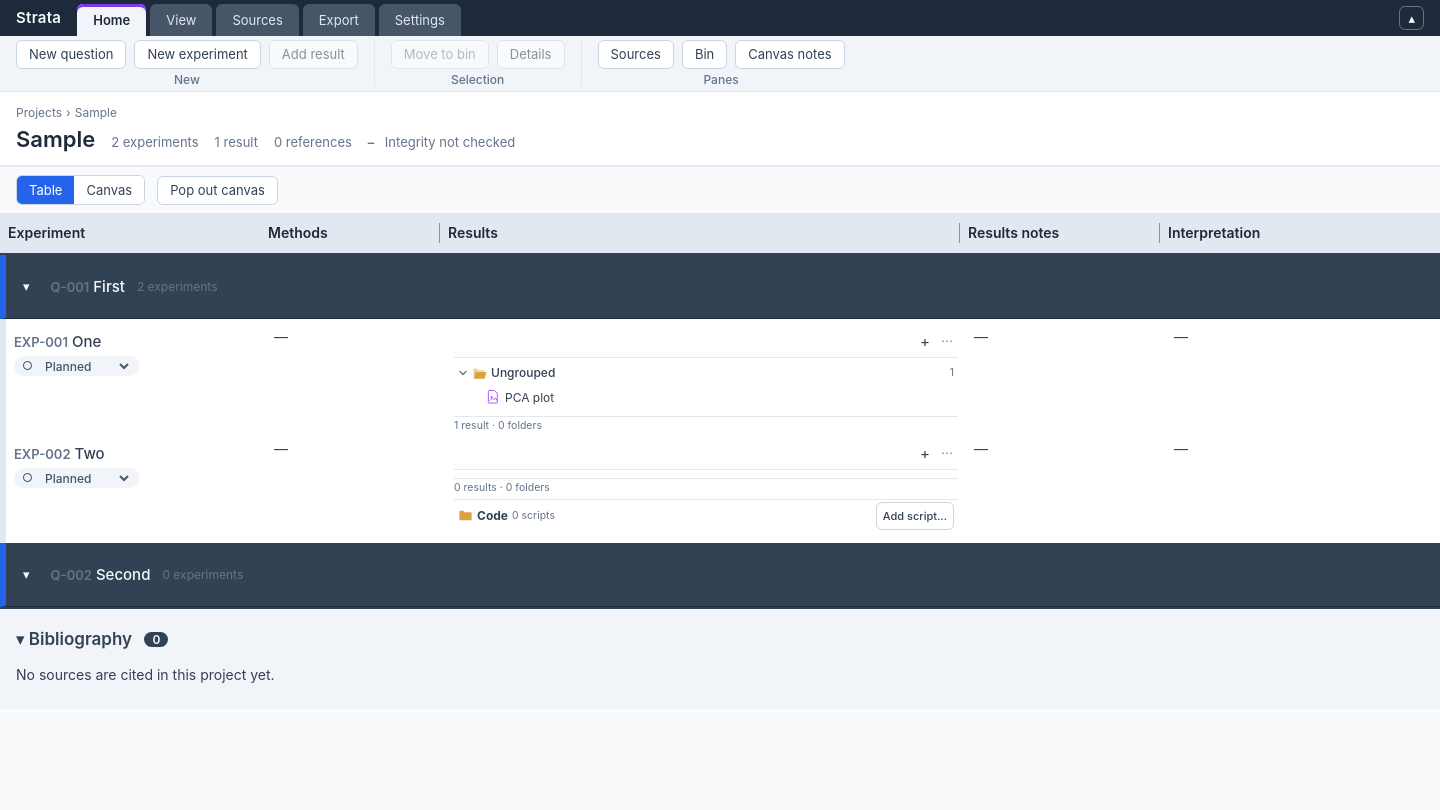
it: the Canvas notes pane in the table view › is opened from the ribbon's Home tab
What coordinates should you click on to do the following:
click the button "Canvas notes"
I would click on:
 (790, 54)
Its box is [735,40,845,69].
(page scrolled)
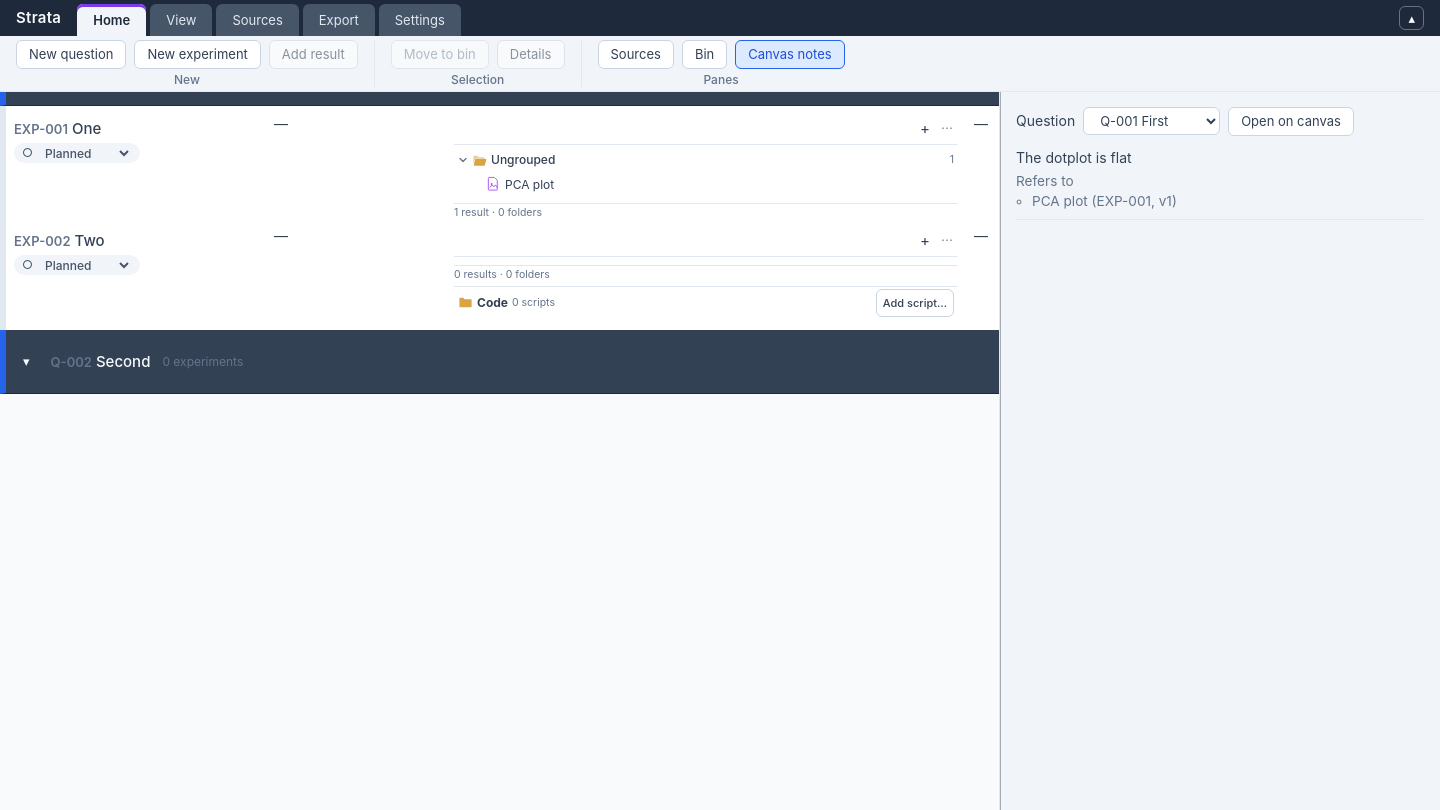
Expected: the element named "Side pane" shows "Canvas notes", [1008,8,1107,36]
Now the element named "Side pane" is shown, box [999,0,1439,809]
